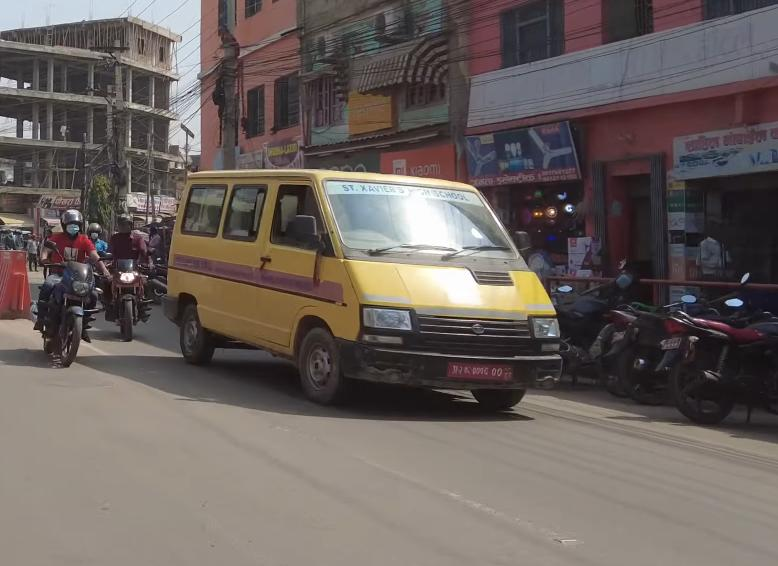bike: (662, 303, 778, 419), (29, 239, 99, 379), (98, 235, 158, 350)
school_bus: (160, 165, 568, 419)
